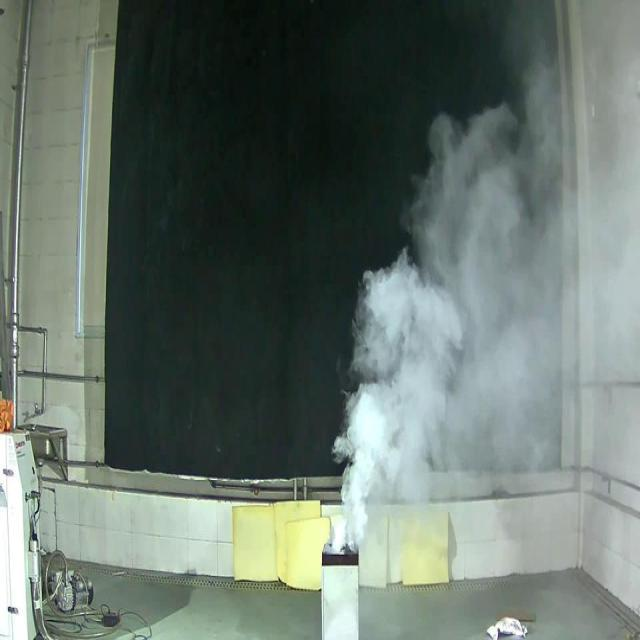Smoke: (328, 32, 640, 554)
